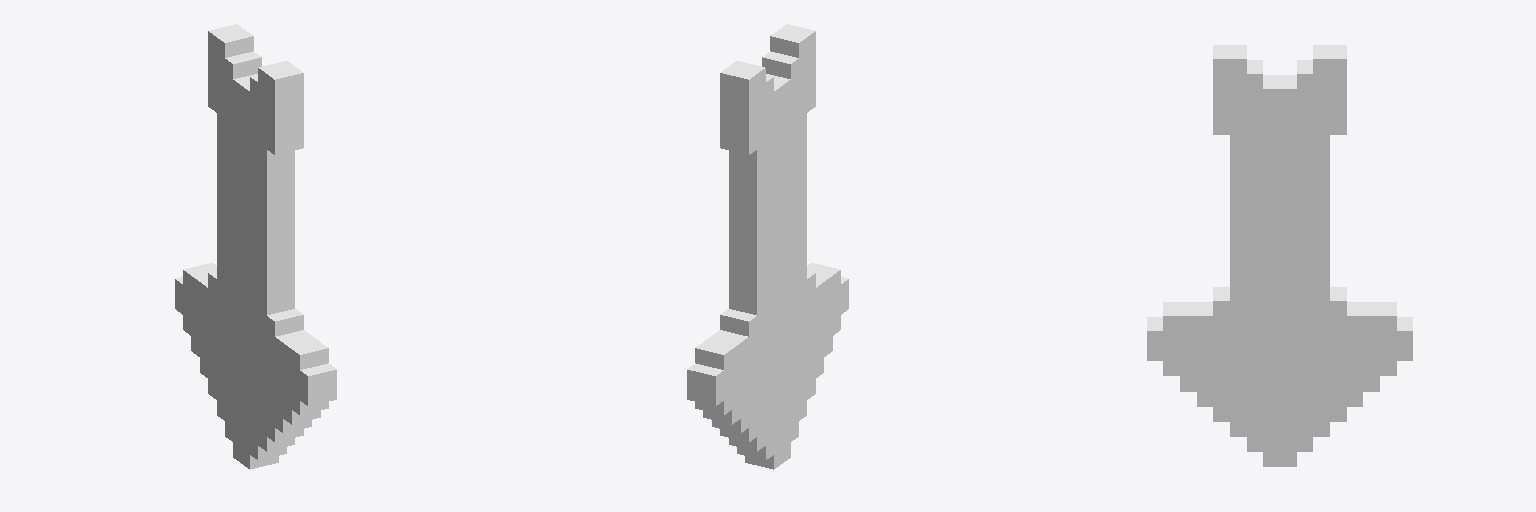
Rendered from arrow_destination0.obj.
The picture shows the model from 3 angles: view 1: azimuth 30°, elevation 25°; view 2: azimuth 150°, elevation 25°; view 3: azimuth 270°, elevation 25°; orthographic projection.
Visible parts, largest first — view 1: object 1; view 2: object 1; view 3: object 1.
Boxes of the visible parts, x1,y1,x2,y2 form: object 1: [175, 24, 336, 469]; object 1: [687, 24, 848, 469]; object 1: [1147, 45, 1412, 466].
Bounding box in the file's own units: 0.2 × 2.7 × 1.6.